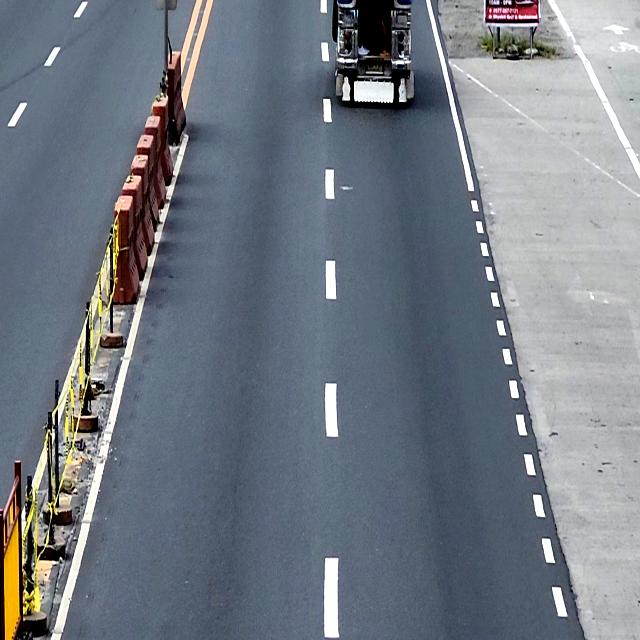Jeep: (331, 0, 414, 108)
License-Plate: (365, 61, 384, 72)
